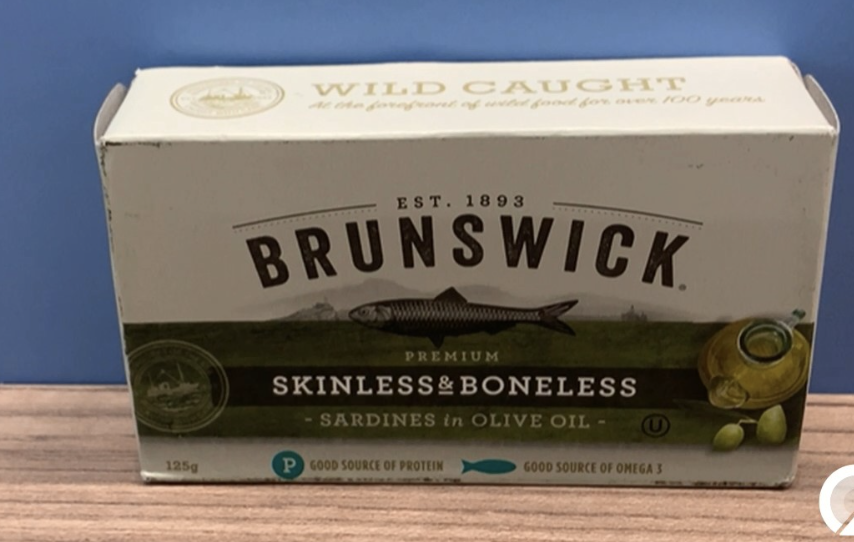sardines_100g-199g: (128, 84, 799, 473)
